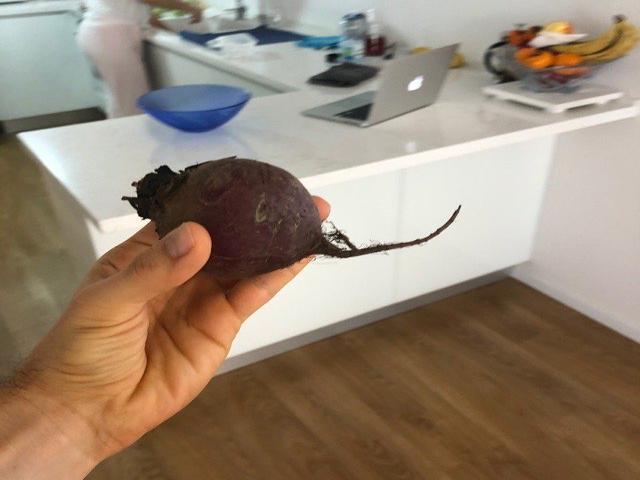beet: (125, 158, 461, 275)
